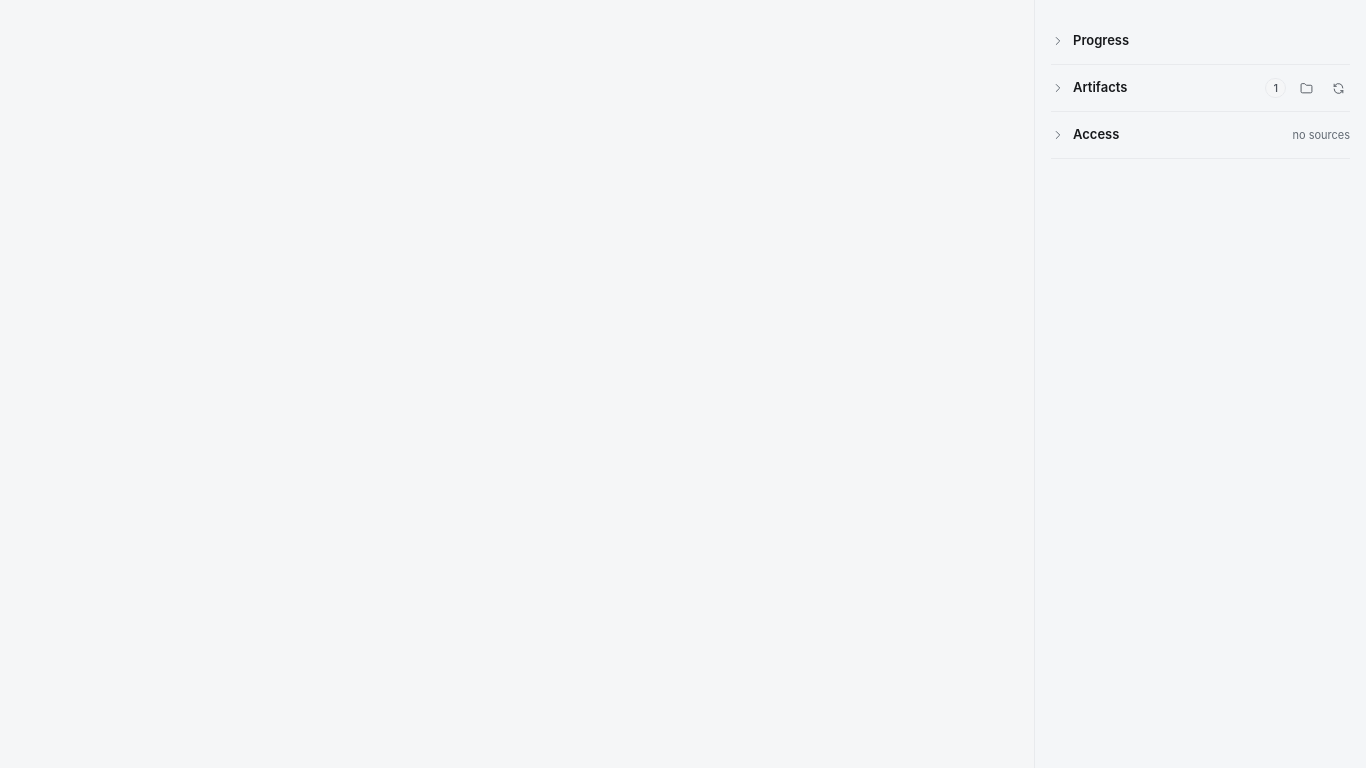
Test: RightRail preview notification › opens ordinary source files in the single lazy read-only CodeMirror viewer
This screenshot has width=1366, height=768.
What coordinates should you click on to do the following:
click the button with test id "rail-toggle-artifacts"
I would click on:
 (1168, 88)
Its box is [1051,78,1286,98].
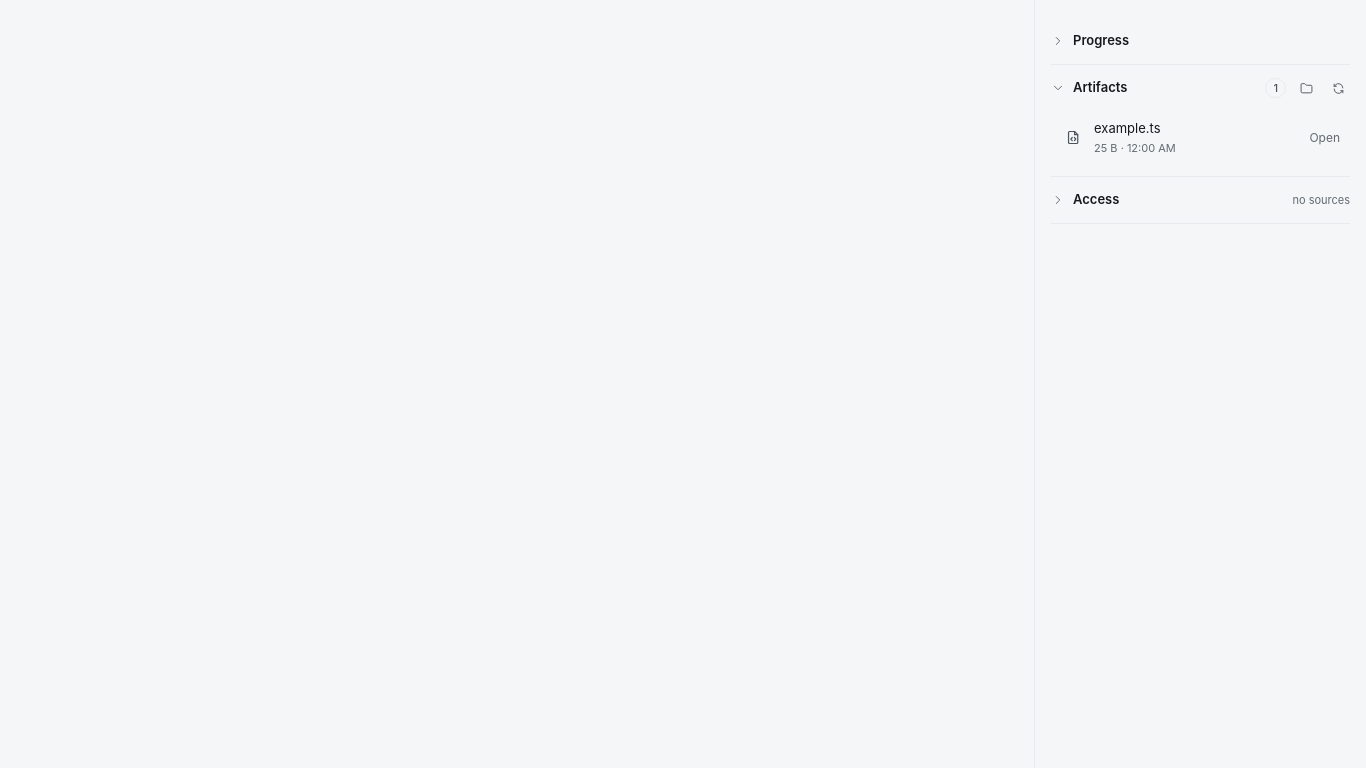
What coordinates should you click on to do the following:
click the button "example.ts 25 B · 12:00 AM Open"
I would click on:
 (1127, 128)
Its box is [1051,110,1350,165].
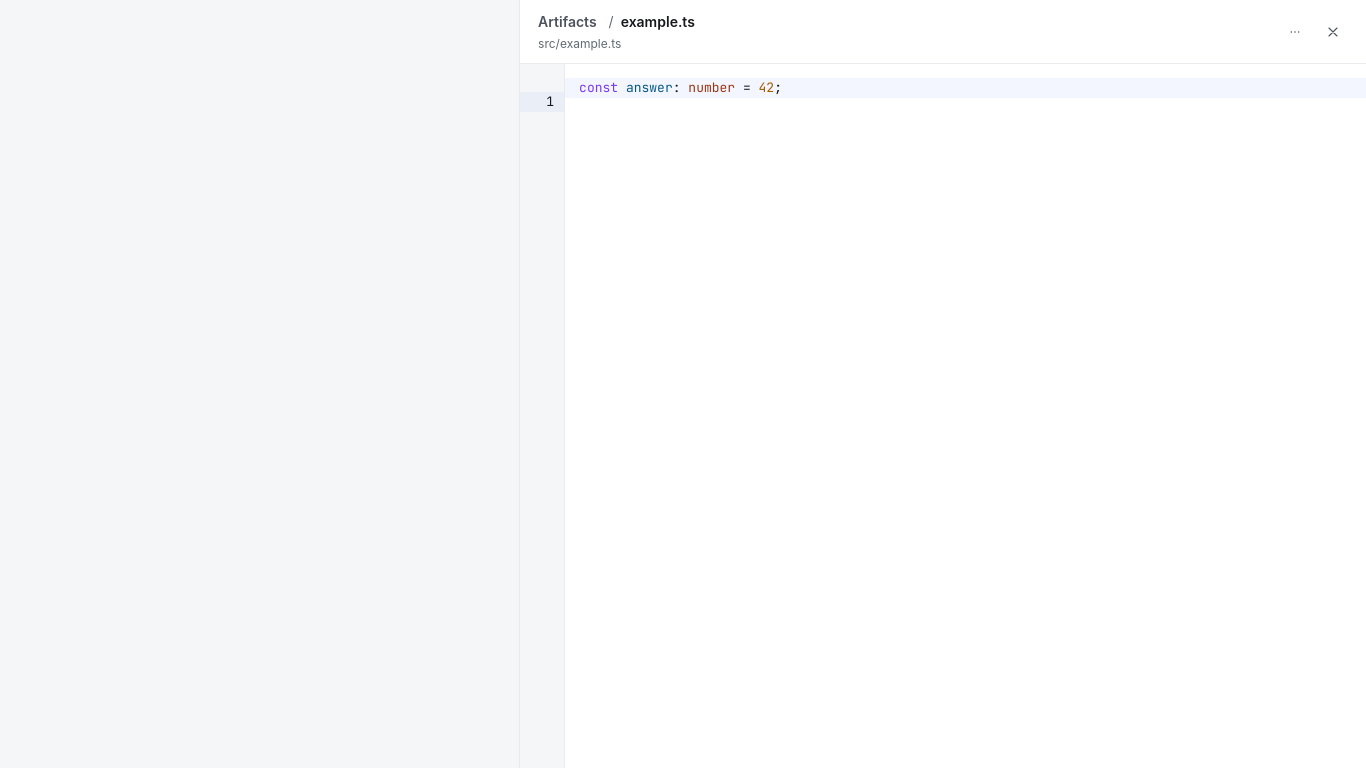
Result: the element with class "cm-editor" is shown at [520,64,1365,767]
